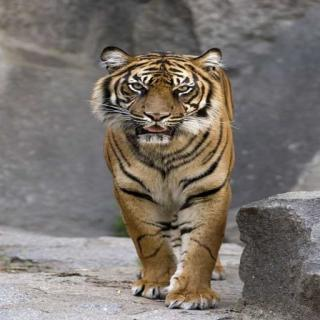Tiger: (73, 28, 254, 318)
